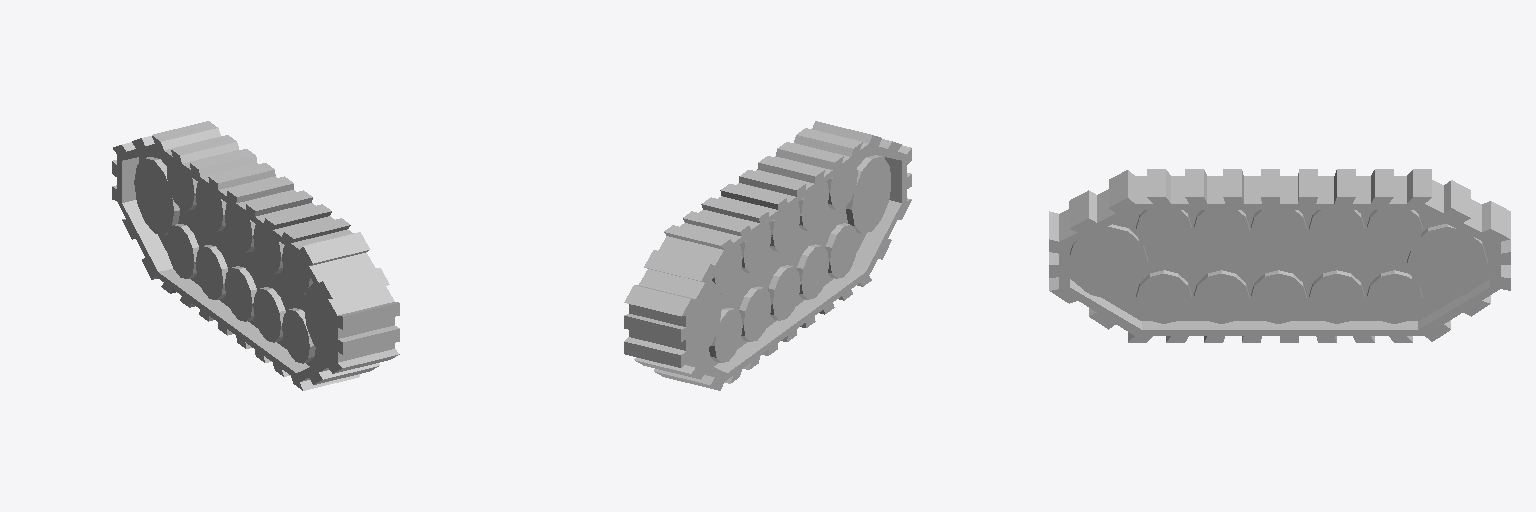
Rendered from Tank Track Model.obj.
The picture shows the model from 3 angles: view 1: azimuth 30°, elevation 25°; view 2: azimuth 150°, elevation 25°; view 3: azimuth 270°, elevation 25°; orthographic projection.
Visible parts, largest first — view 1: Tank Track Model; view 2: Tank Track Model; view 3: Tank Track Model.
Boxes of the visible parts, x1,y1,x2,y2 form: Tank Track Model: [112, 121, 399, 390]; Tank Track Model: [624, 121, 911, 390]; Tank Track Model: [1049, 169, 1510, 342].
Bounding box in the file's own units: 0.4136 × 1 × 2.88.